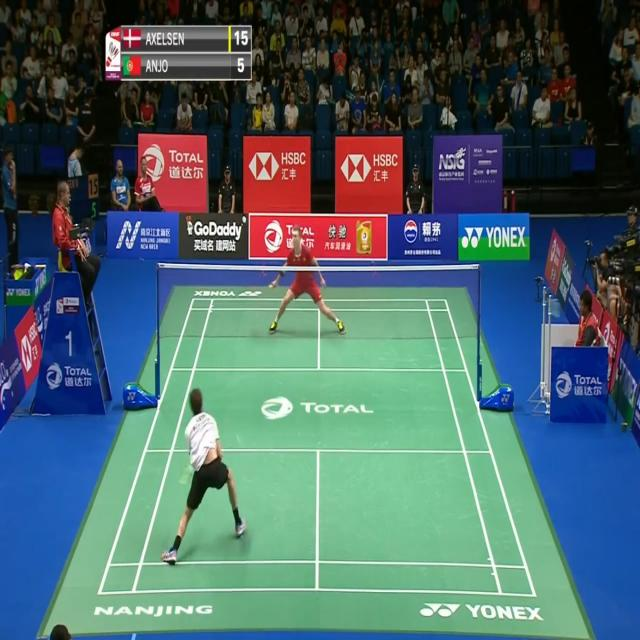Player1: (157, 384, 249, 569)
Player2: (263, 225, 351, 344)
